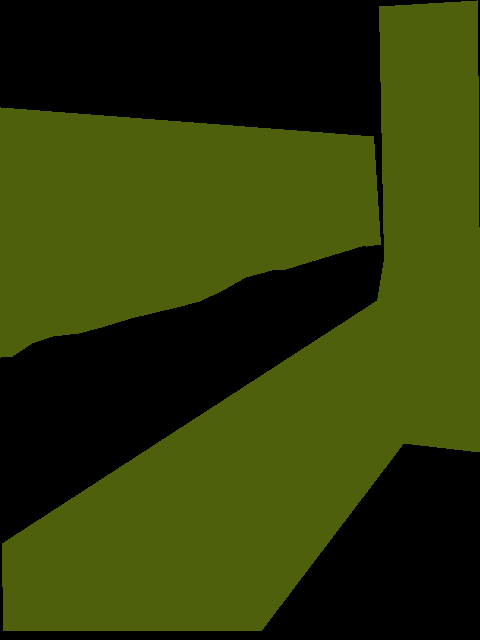Train: (2, 0, 480, 630), (0, 107, 380, 358)
